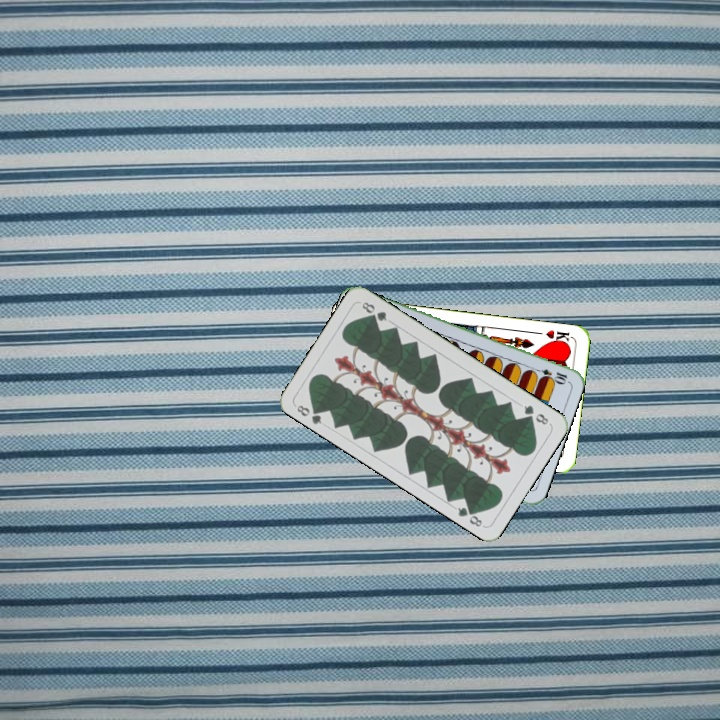E10: (529, 364, 570, 385)
G8: (520, 401, 551, 428), (293, 401, 325, 427)
HK: (542, 326, 574, 347)
